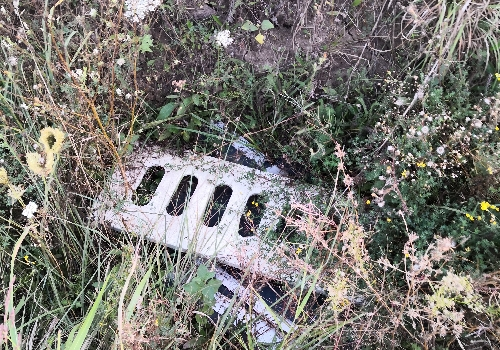trash: (83, 109, 378, 309)
